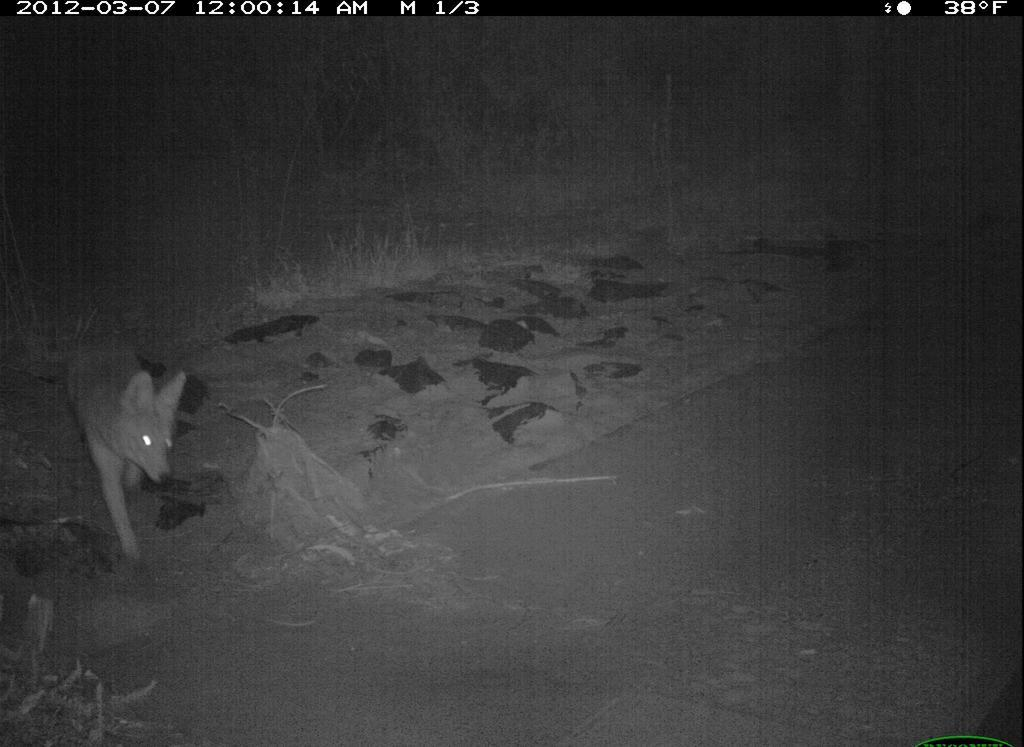coyote: (51, 319, 215, 580)
